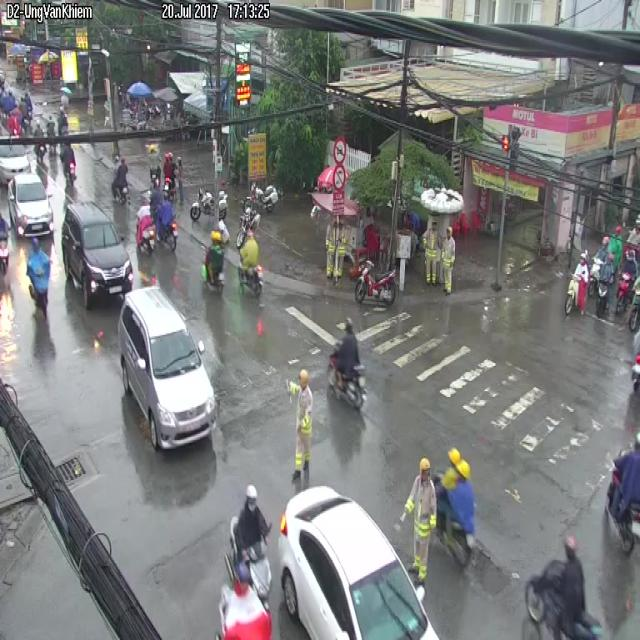car: (433, 449, 475, 566), (27, 240, 50, 319)
traffic-light: (278, 486, 438, 639), (118, 286, 218, 449), (62, 203, 132, 308), (8, 173, 52, 237)
